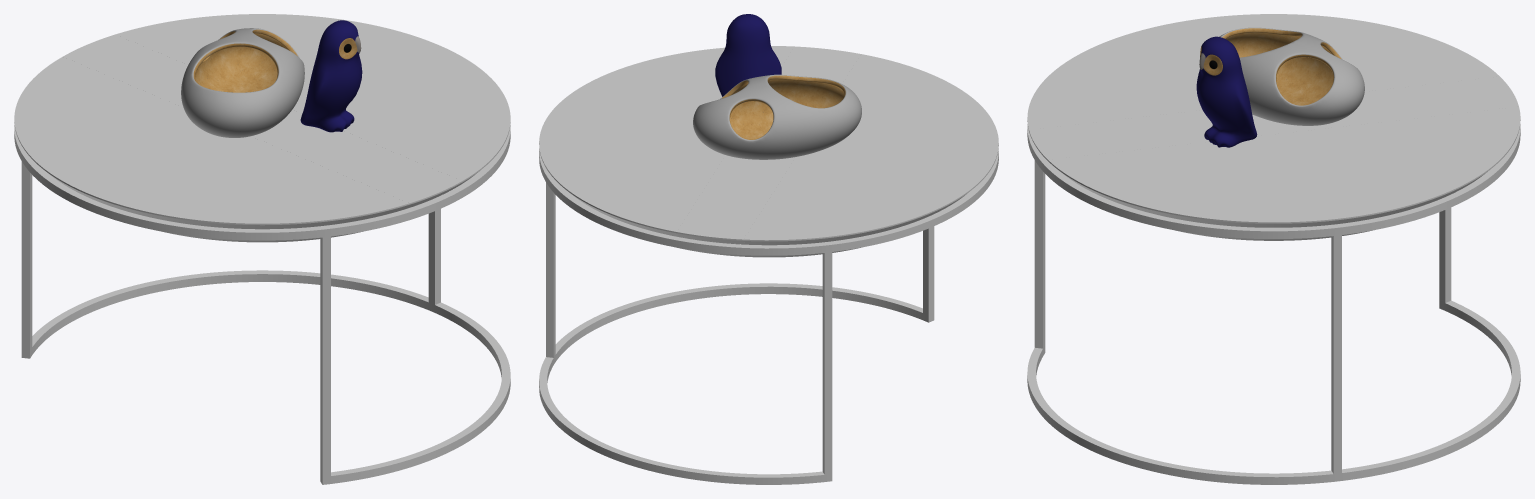
3 views of the same model, side by side, from view 1: azimuth 30°, elevation 25°; view 2: azimuth 150°, elevation 25°; view 3: azimuth 270°, elevation 25° (orthographic). The views are drawn at different scales.
Visible parts, largest first — view 1: Circle.002, Vulcano C.001, Owl.001; view 2: Circle.002, Vulcano C.001, Owl.001; view 3: Circle.002, Vulcano C.001, Owl.001.
Part boxes in pixels (x1=…): Circle.002: x1=14, y1=14, x2=510, y2=484; Vulcano C.001: x1=181, y1=28, x2=304, y2=137; Owl.001: x1=300, y1=20, x2=362, y2=132; Circle.002: x1=539, y1=46, x2=998, y2=484; Vulcano C.001: x1=693, y1=74, x2=861, y2=159; Owl.001: x1=715, y1=14, x2=781, y2=96; Circle.002: x1=1027, y1=14, x2=1520, y2=484; Vulcano C.001: x1=1219, y1=27, x2=1364, y2=125; Owl.001: x1=1196, y1=36, x2=1257, y2=147.
Size of the model in its own units: 79.99 by 65.54 by 79.99.
